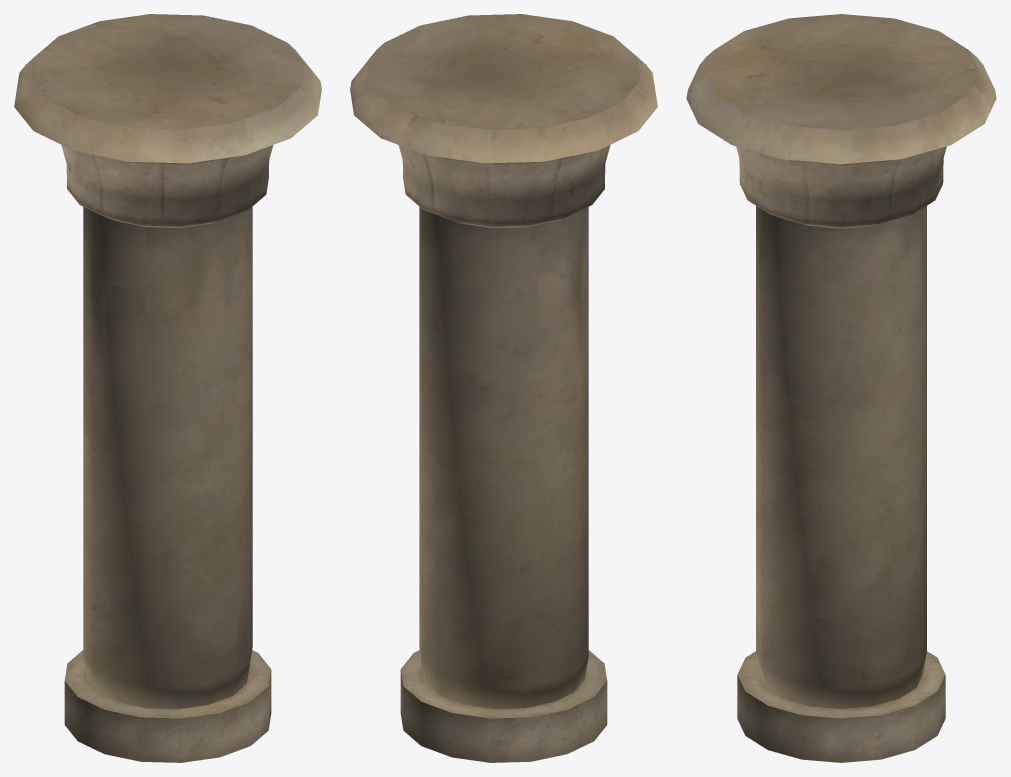
3 views of the same model, side by side, from view 1: azimuth 30°, elevation 25°; view 2: azimuth 150°, elevation 25°; view 3: azimuth 270°, elevation 25° (orthographic).
Visible parts, largest first — view 1: body0_model0_lod0_mesh0; view 2: body0_model0_lod0_mesh0; view 3: body0_model0_lod0_mesh0.
Part boxes in pixels (x1,y1,x2,y2): body0_model0_lod0_mesh0: (14,14,321,762); body0_model0_lod0_mesh0: (350,14,657,762); body0_model0_lod0_mesh0: (686,14,996,762).
Bounding box in the file's own units: 13.9 × 32 × 13.9.
Materials: 1 (1 with a texture image).
